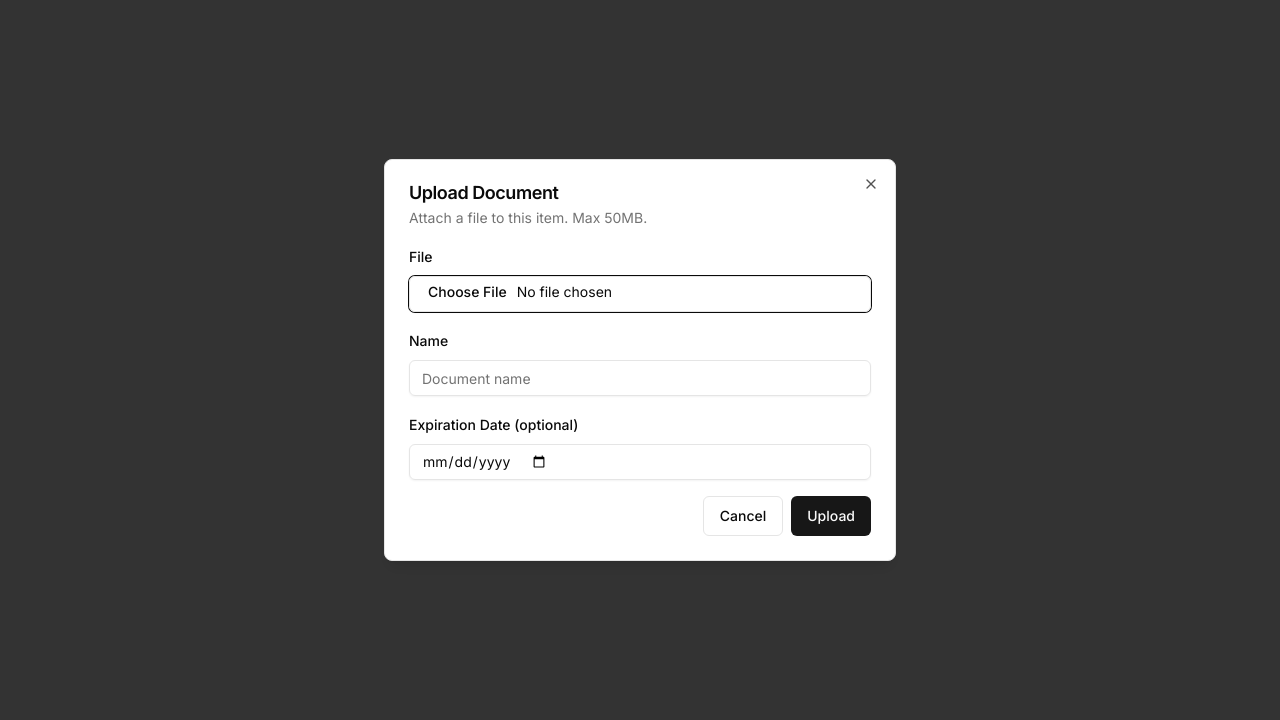
Test: UploadDialog › shows error when submitting without a file
# Fill in name but no file
Type "Test Document" into the field labelled "Name" at (640, 378), box [409,360,871,396]
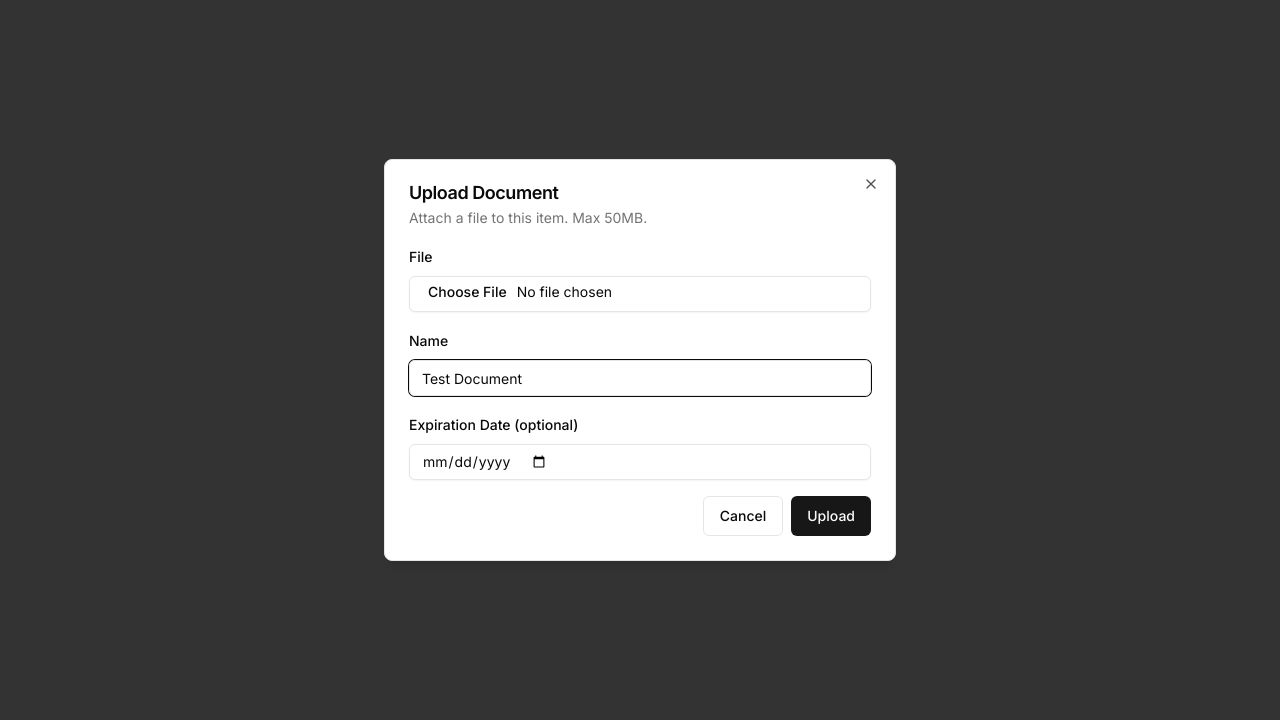
# Click upload
Click the button "Upload" at (831, 516), box [791,496,871,536]
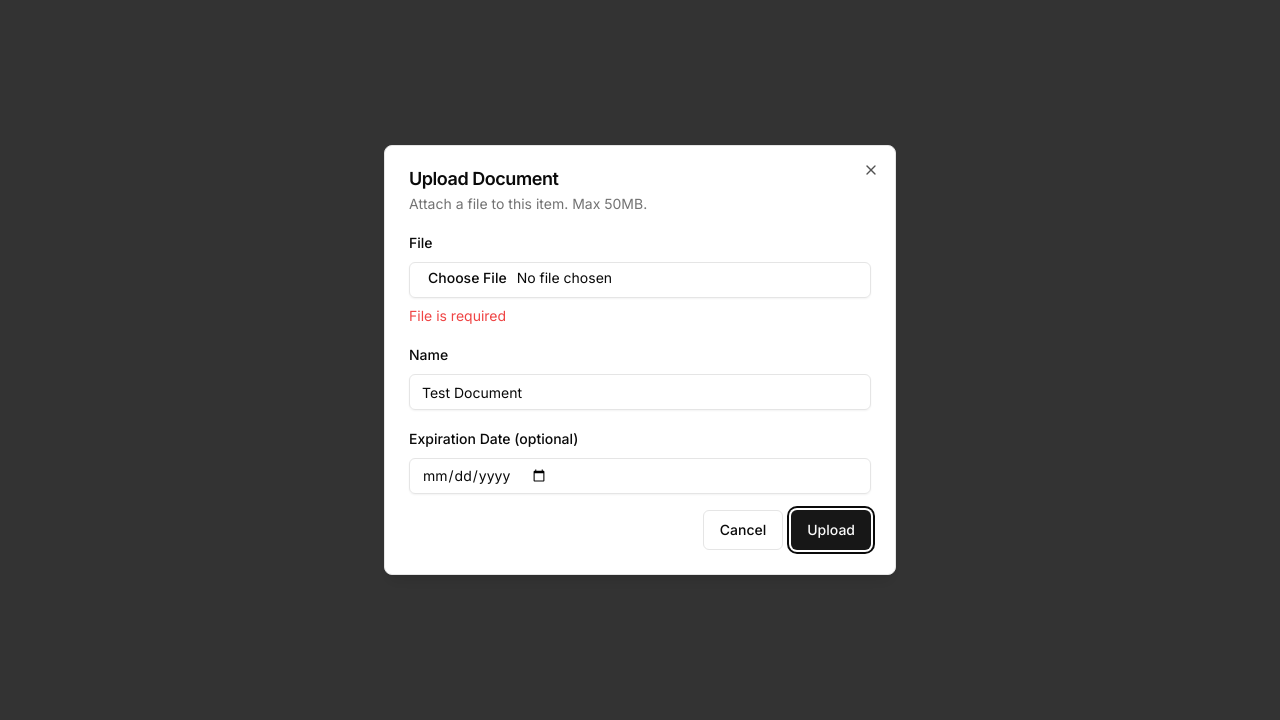
Expected: the text "File is required" is shown, [409,307,506,324]
